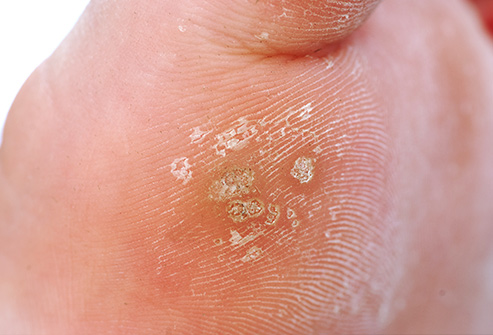Wart: (170, 91, 335, 279)
